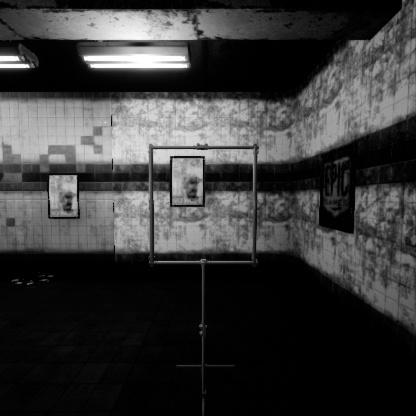gate: (149, 149, 269, 271)
